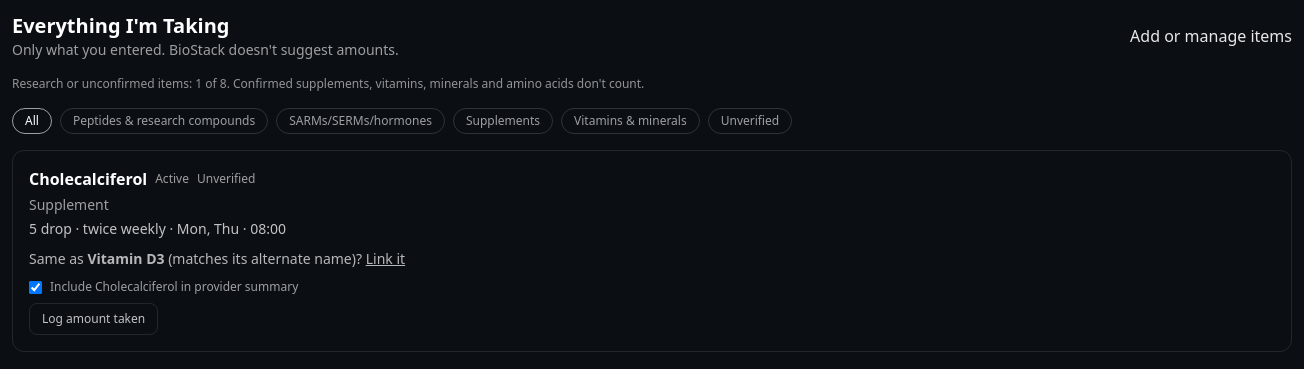
it: Everything I'm Taking › offers a match with "Same as" and links only when the user presses Link it, never changing amounts
Expected: the text "Same as Vitamin D3 (matches its alternate name)? Link it" is shown, [29,247,405,271]
Click the button named "Link it: link Cholecalciferol to Vitamin D3": [385, 259] box [366,247,405,271]
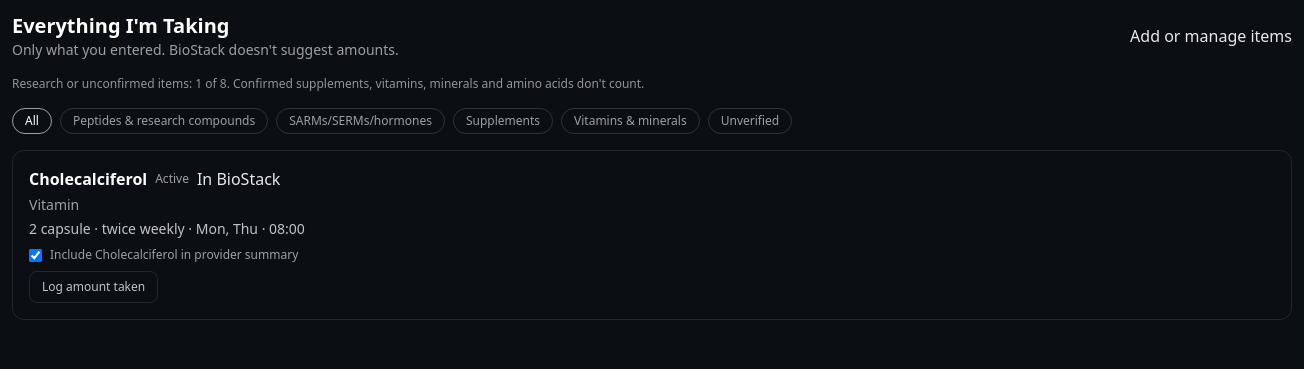
Now the link "In BioStack" is shown, box [197,167,280,191]
